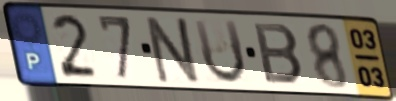2: (49, 12, 102, 81)
7: (95, 13, 135, 83)
8: (304, 21, 351, 91)
B: (251, 20, 307, 87)
N: (144, 14, 205, 86)
U: (191, 17, 250, 87)
